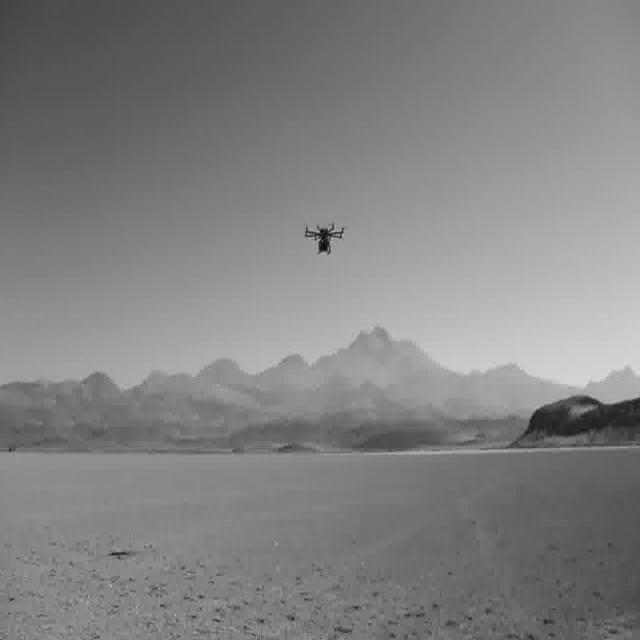drone: (301, 218, 346, 255)
